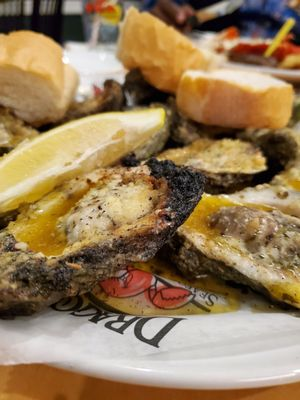soup: (0, 104, 206, 320)
